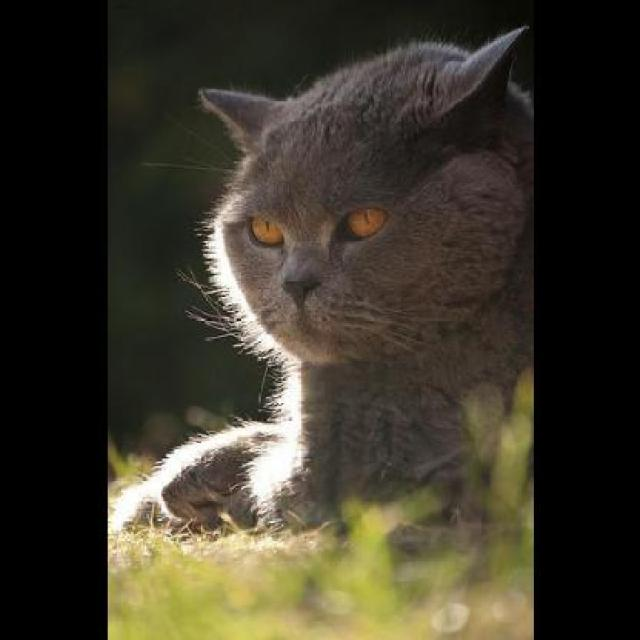unauthorized: (108, 23, 534, 543)
